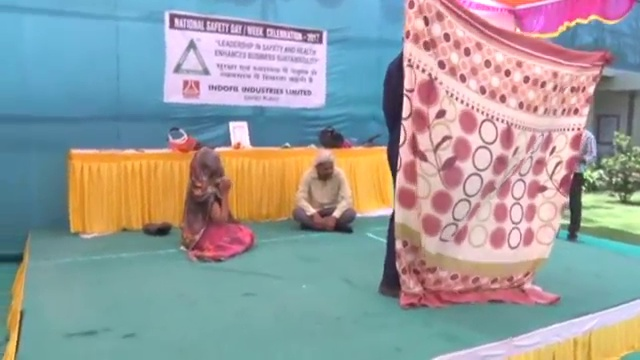helmet_off: (194, 148, 223, 179), (313, 151, 336, 181)
person: (180, 146, 253, 262), (292, 148, 357, 230), (570, 126, 599, 243)
